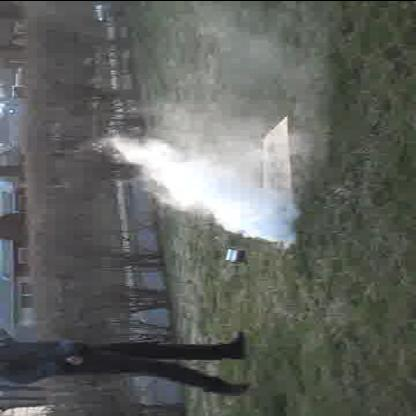Smoke: (126, 128, 294, 244)
